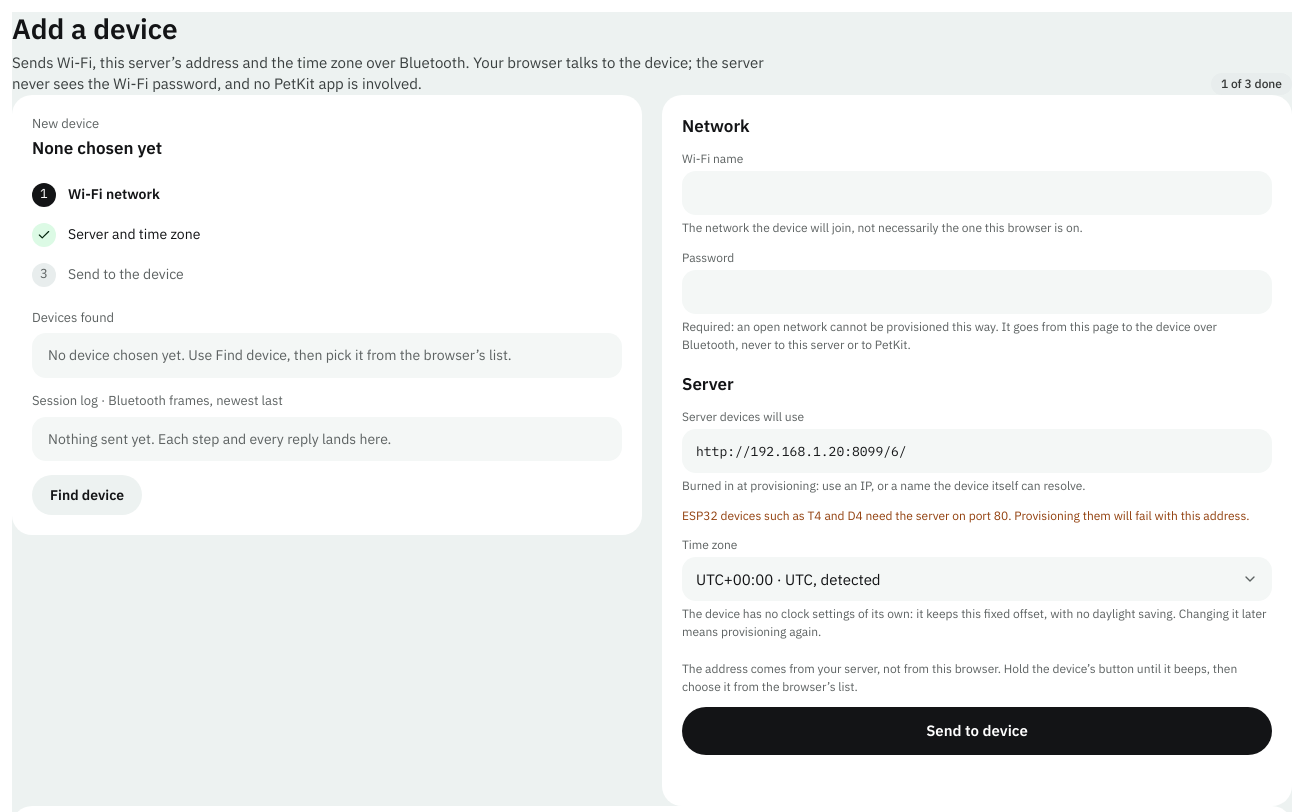
Test: ProvisionPage › prefills the server address and warns, without blocking, when it is not on port 80
The width and height of the screenshot is (1292, 812).
Expected: the list item "need the server on port 80" is shown, [682, 508, 1249, 523]
Expected: the button "Send to device" is enabled, [682, 707, 1272, 755]
Replace the text in the field showing "http://192.168.1.20:8099/6/" with "http://homeassistant.local/6/". click: (977, 451)
box: [682, 429, 1272, 473]
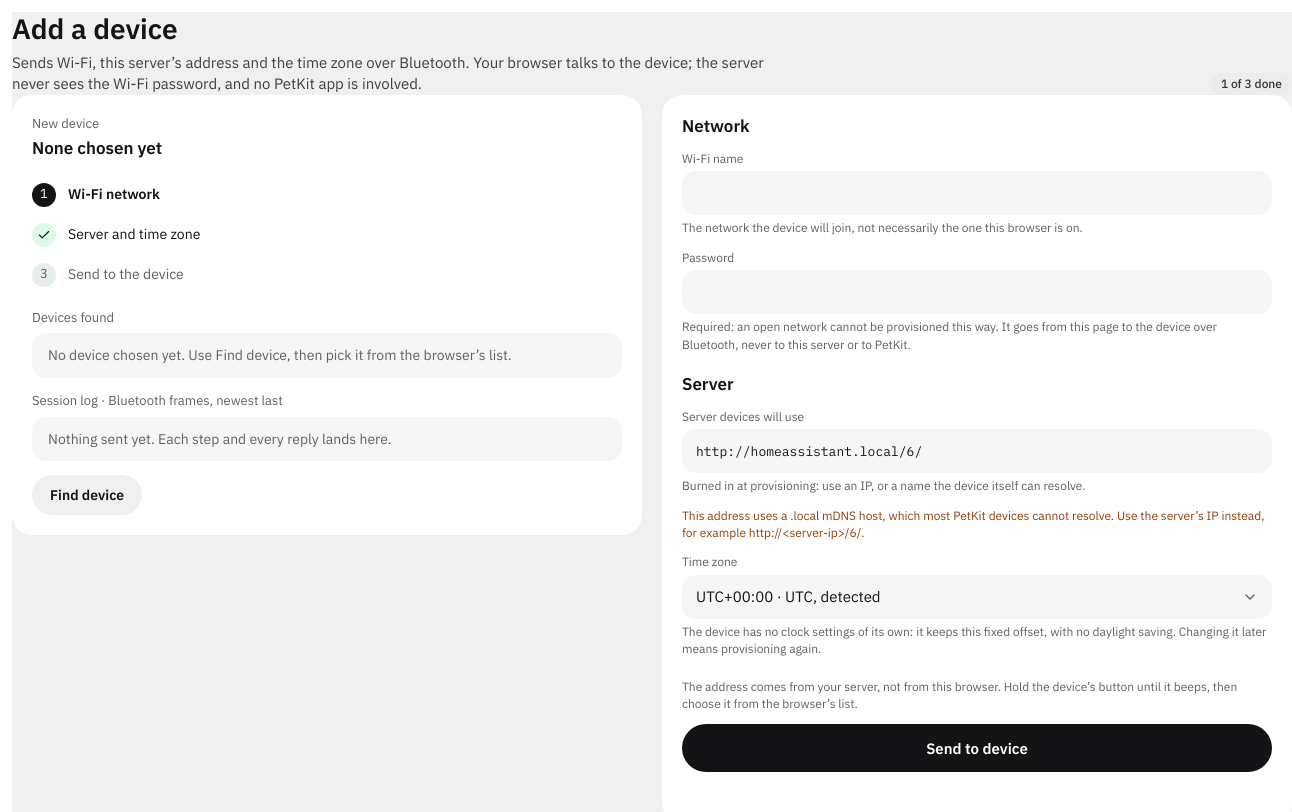
Expected: the list item "need the server on port 80" is not shown
Result: the list item ".local mDNS host" is shown at [682, 508, 1264, 540]
